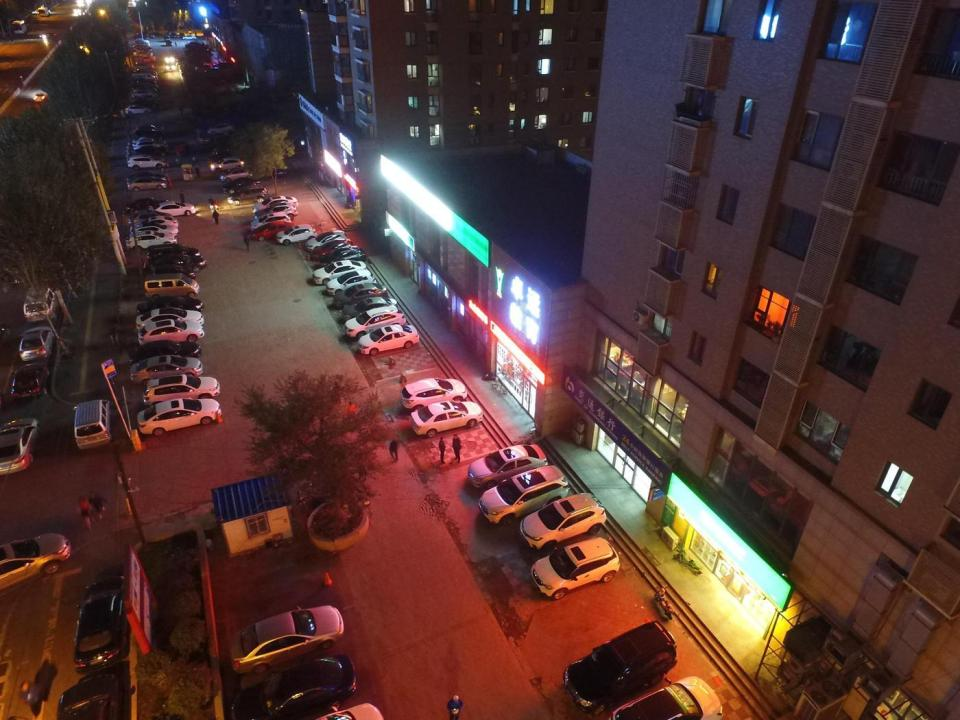bus: (12, 19, 27, 34), (37, 6, 49, 17)
car: (562, 622, 679, 718), (231, 654, 356, 720), (230, 603, 345, 674), (531, 538, 619, 599), (73, 576, 128, 667), (610, 676, 722, 720), (520, 494, 607, 550), (0, 532, 71, 592), (470, 444, 547, 489), (137, 398, 222, 436), (56, 673, 120, 720), (410, 399, 482, 439), (400, 377, 468, 414), (0, 419, 41, 475), (129, 354, 204, 384), (145, 374, 219, 404), (357, 324, 420, 356), (344, 306, 406, 338), (137, 318, 204, 346), (11, 362, 50, 404), (136, 307, 203, 331), (310, 258, 366, 286), (131, 341, 202, 363), (332, 282, 388, 308), (342, 295, 396, 321), (139, 298, 203, 318), (126, 228, 178, 252), (148, 253, 206, 274), (326, 270, 372, 296), (18, 326, 54, 358), (148, 245, 202, 263), (320, 247, 364, 267), (252, 220, 296, 240), (228, 184, 268, 206), (306, 232, 347, 253), (276, 224, 316, 245), (129, 222, 178, 238), (252, 213, 290, 232), (134, 214, 176, 231), (154, 201, 196, 218), (314, 241, 352, 258), (257, 203, 297, 219), (254, 195, 296, 210), (127, 154, 166, 170), (127, 176, 165, 192), (210, 156, 246, 172), (222, 178, 256, 194), (126, 197, 161, 212), (136, 144, 168, 158), (222, 167, 250, 182), (131, 136, 165, 147), (134, 140, 166, 151), (134, 125, 164, 136), (206, 124, 233, 135), (132, 89, 158, 100), (125, 104, 152, 114), (272, 160, 286, 178), (134, 82, 157, 91), (131, 73, 156, 81), (130, 62, 154, 70), (164, 56, 176, 72), (33, 92, 47, 103), (135, 56, 156, 61), (182, 34, 196, 40), (40, 33, 55, 38), (168, 31, 180, 36)
van: (479, 465, 568, 525), (73, 399, 112, 450), (23, 278, 58, 322), (145, 275, 199, 299)
